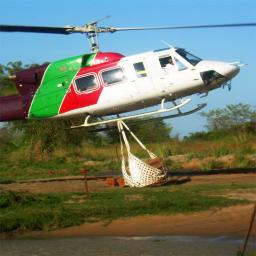helicopter: (47, 68, 256, 133)
